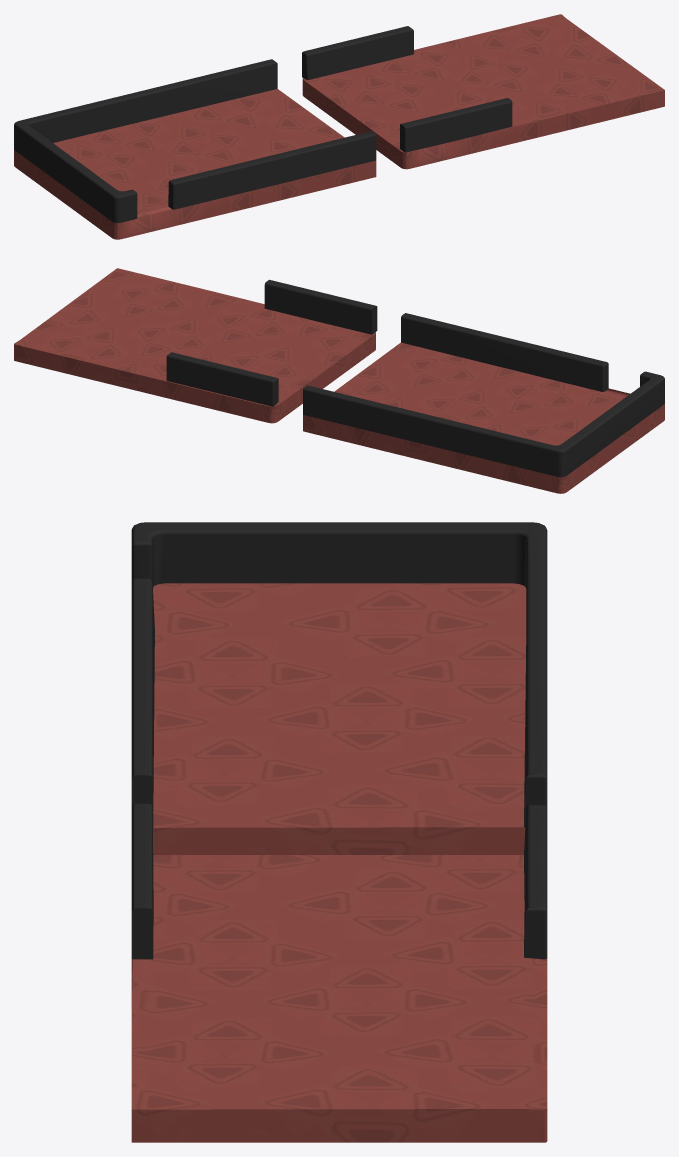
File: Tray.fbx
3 views of the same model, one above another, from view 1: azimuth 30°, elevation 25°; view 2: azimuth 150°, elevation 25°; view 3: azimuth 270°, elevation 25° (orthographic). The views are drawn at different scales.
Visible parts, largest first — view 1: polySurface13, polySurface10, polySurface11, polySurface12, polySurface8, polySurface9; view 2: polySurface13, polySurface10, polySurface11, polySurface12, polySurface8, polySurface9; view 3: polySurface13, polySurface10, polySurface11, polySurface12, polySurface9, polySurface8.
Boxes of the visible parts, x1,y1,x2,y2 form: polySurface13: (302,14,664,169); polySurface10: (14,89,376,239); polySurface11: (14,59,277,222); polySurface12: (168,131,376,209); polySurface8: (400,98,512,152); polySurface9: (302,26,413,80); polySurface13: (14,268,375,423); polySurface10: (303,342,664,493); polySurface11: (303,371,664,477); polySurface12: (401,313,608,391); polySurface8: (264,279,377,334); polySurface9: (166,352,278,406); polySurface13: (131,855,547,1142); polySurface10: (153,583,526,854); polySurface11: (131,522,547,827); polySurface12: (131,578,154,827); polySurface9: (524,805,547,959); polySurface8: (131,803,153,959).
Bounding box in the file's own units: 49.35 × 3.67 × 16.15.
